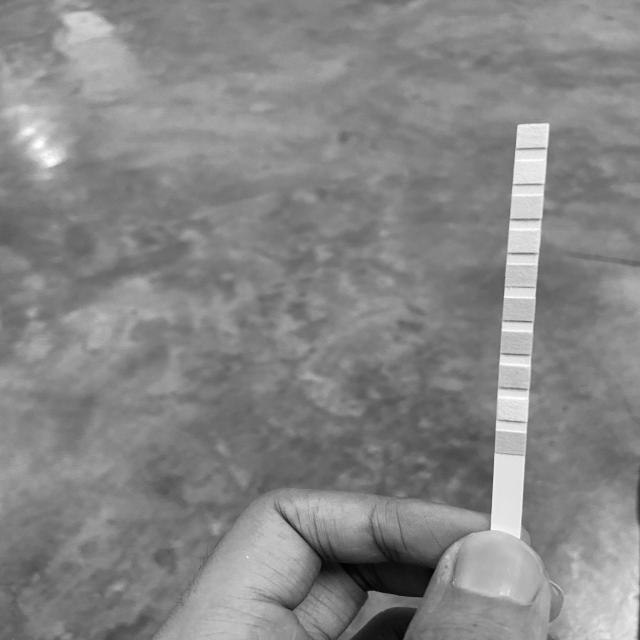Bilirubin: (498, 398, 528, 419)
Blood: (504, 299, 534, 320)
Glucose: (496, 433, 526, 452)
Ketone: (500, 368, 530, 387)
Leukocytes: (518, 125, 546, 147)
Nitrite: (514, 162, 543, 184)
Protein: (509, 231, 539, 252)
SpGravity: (501, 333, 531, 353)
Urobilinogen: (512, 196, 542, 218)
background: (0, 0, 640, 640)
pH: (506, 265, 536, 286)
strip: (492, 123, 549, 530)
